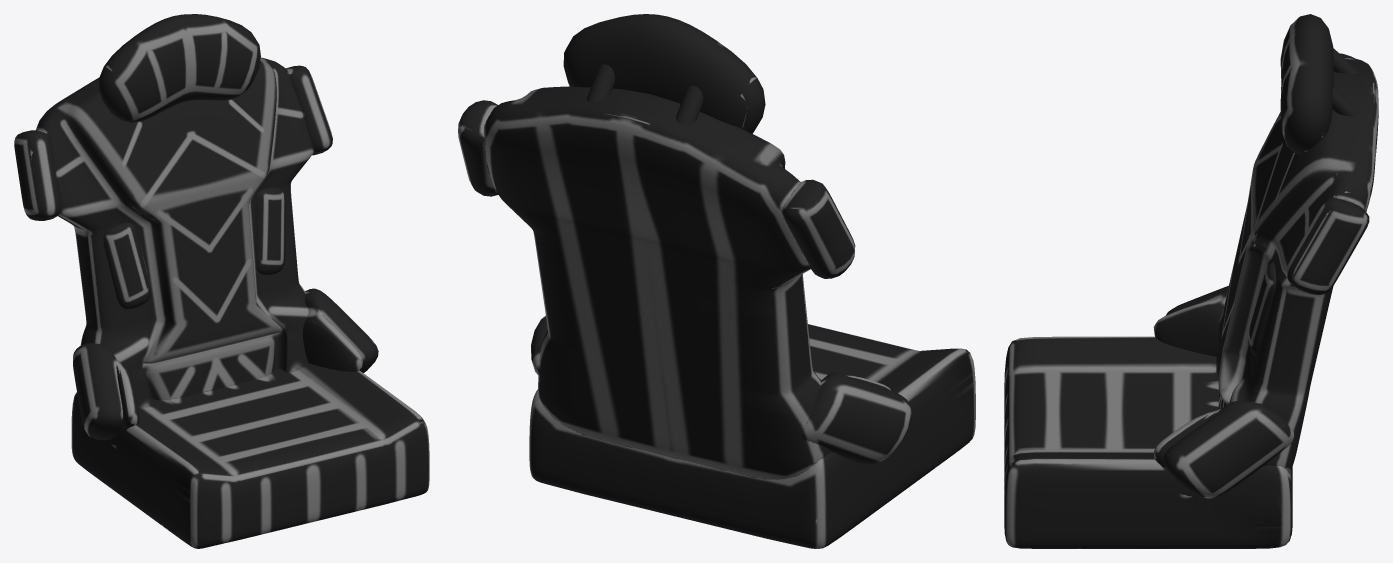
The model's file is SM_Int_Fighter_Cabin_Console.fbx.
3 views of the same model, side by side, from view 1: azimuth 30°, elevation 25°; view 2: azimuth 150°, elevation 25°; view 3: azimuth 270°, elevation 25° (orthographic). The views are drawn at different scales.
Visible parts, largest first — view 1: Cube.004; view 2: Cube.004; view 3: Cube.004.
Boxes of the visible parts, x1=… form: Cube.004: x1=14, y1=14, x2=429, y2=548; Cube.004: x1=458, y1=14, x2=975, y2=548; Cube.004: x1=1004, y1=14, x2=1378, y2=548.
Bounding box in the file's own units: 50 × 47.61 × 65.
1 material, 1 textured.
